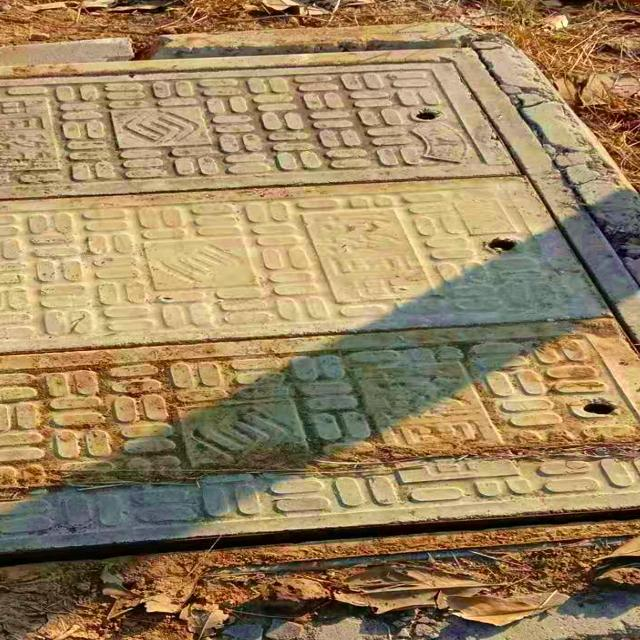circle: (0, 25, 640, 602)
